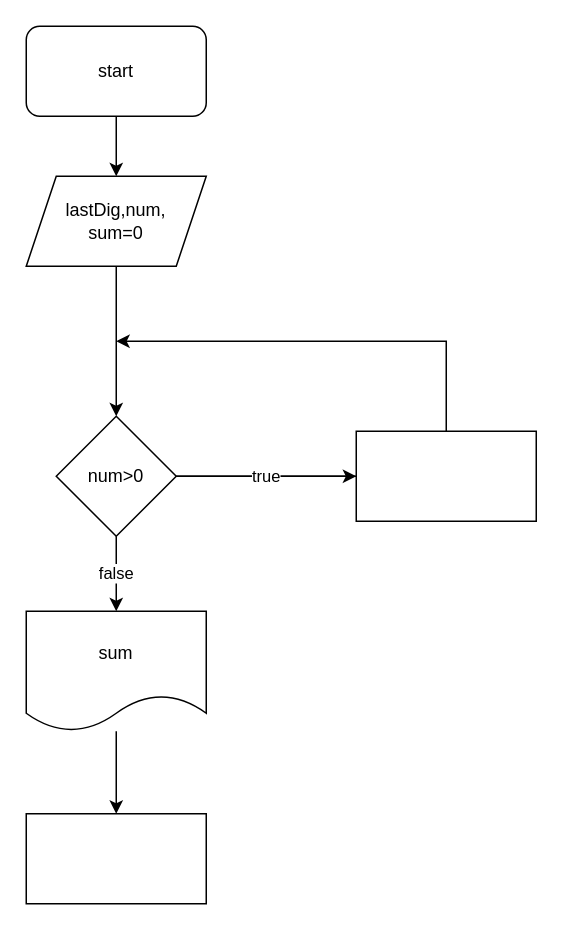
Image size: 563x930. Some labels were removed from this diagram. The shapes that lost their labels are listed below. From the top down, each one's box as (x1, y1, x2, y2) in pixels, then its label:
(355, 430, 536, 521): lastDig=num%10 sum+=lastDig num/=10
(25, 812, 206, 904): END
